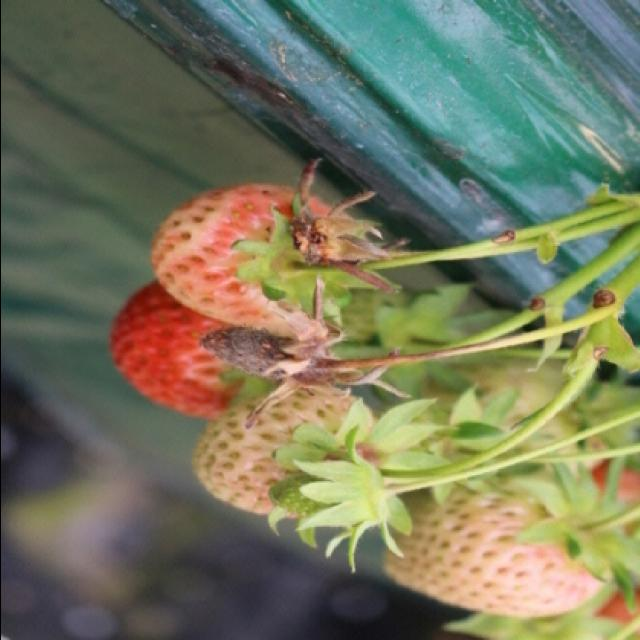Gray Mold: (198, 317, 403, 430)
